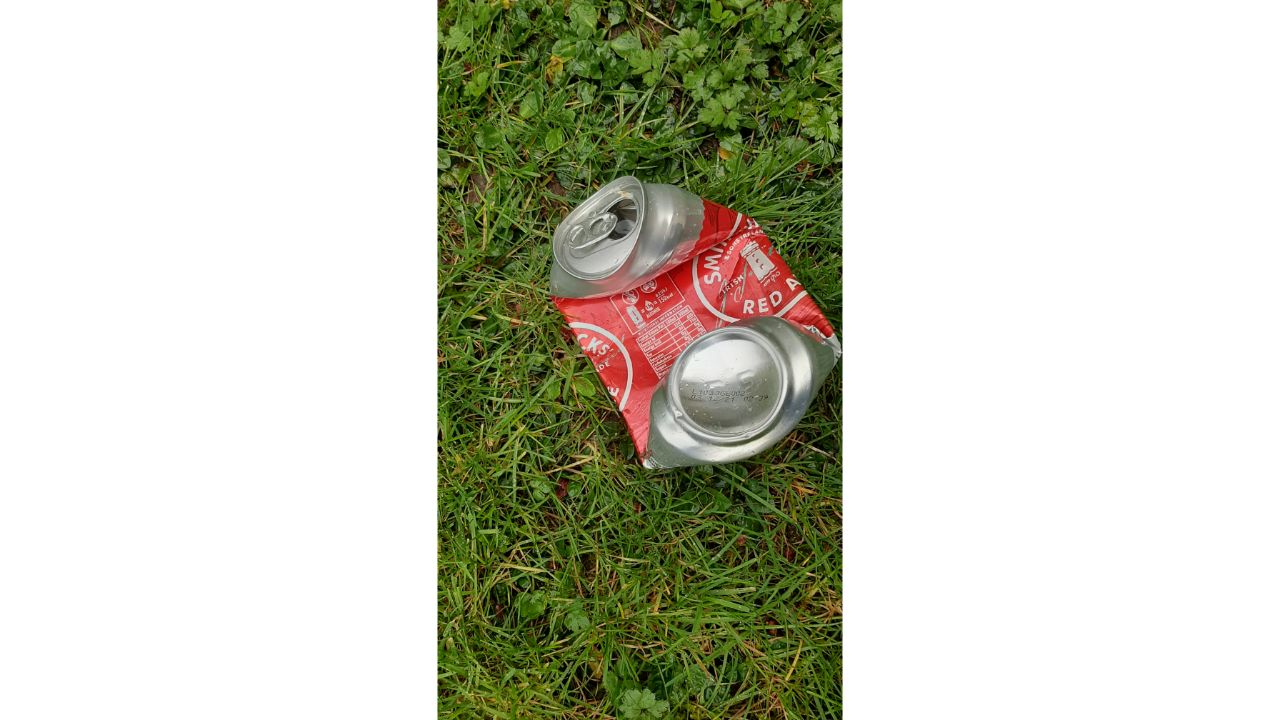Can: (548, 175, 840, 470)
